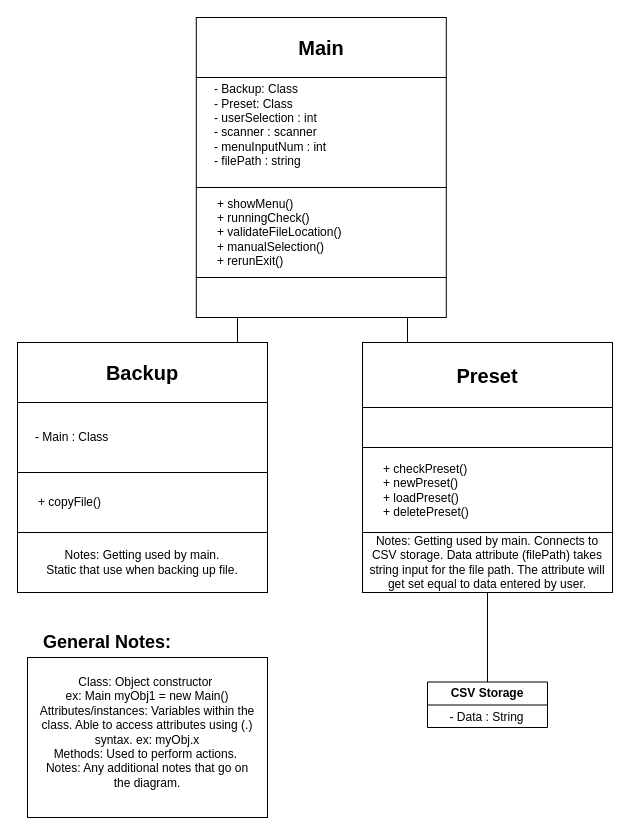
The diagram is 630 pixels wide and 835 high, and some of its shapes have lost their labels. The shapes that lost their labels are listed below. From the top down, each one's centre as x and y in pixels, then its label:
At point (320, 297): "Notes: Common hub to run the program.".
At point (487, 432): "- filePath : string".
